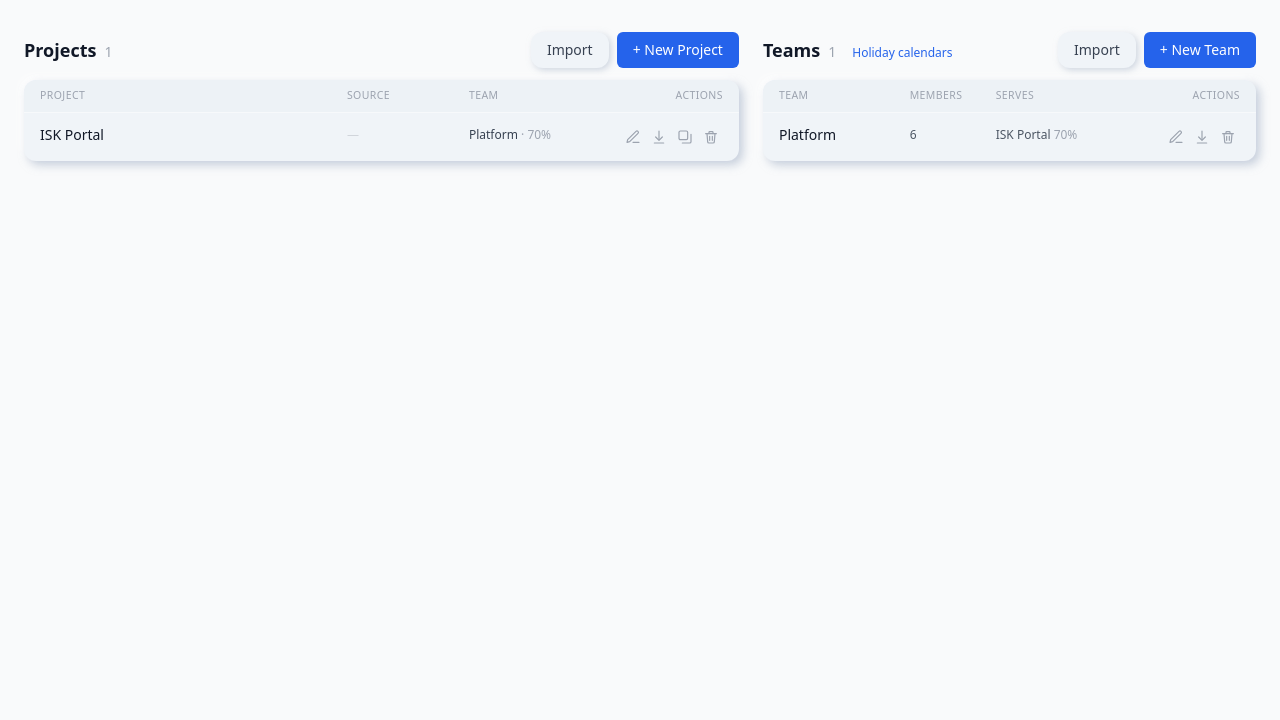
Scenario: ProjectListPage — Teams section › opens the create-team modal from the section header
Click the button "+ New Team" at (1200, 50), box top-left (1144, 32), bottom-right (1256, 68)
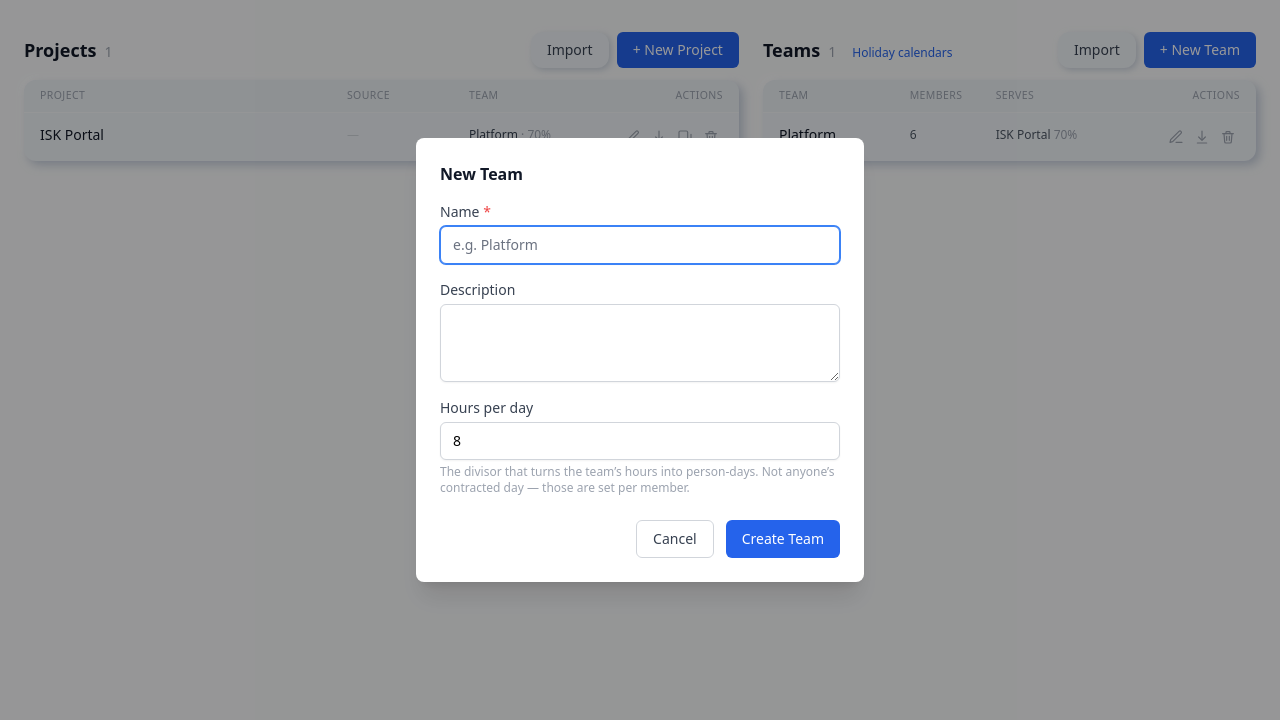
Now the heading "New Team" is shown, box top-left (440, 163), bottom-right (523, 185)
